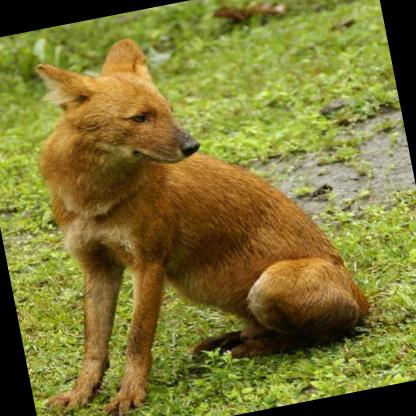dhole: (0, 0, 380, 416)
